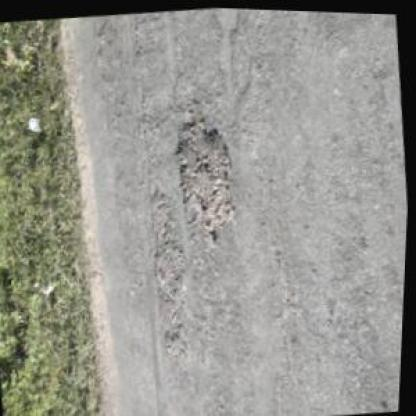pothole: (166, 104, 244, 237), (143, 183, 194, 313), (162, 318, 197, 372)
